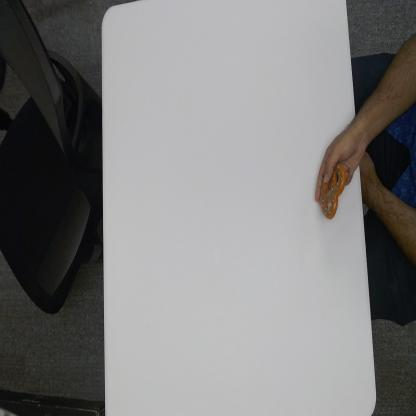Pretzel: (319, 162, 345, 220)
